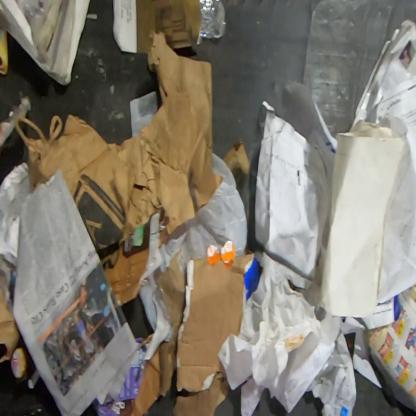cardboard: (129, 248, 263, 416), (0, 287, 21, 364)
rigid_plastic: (196, 0, 227, 46)
